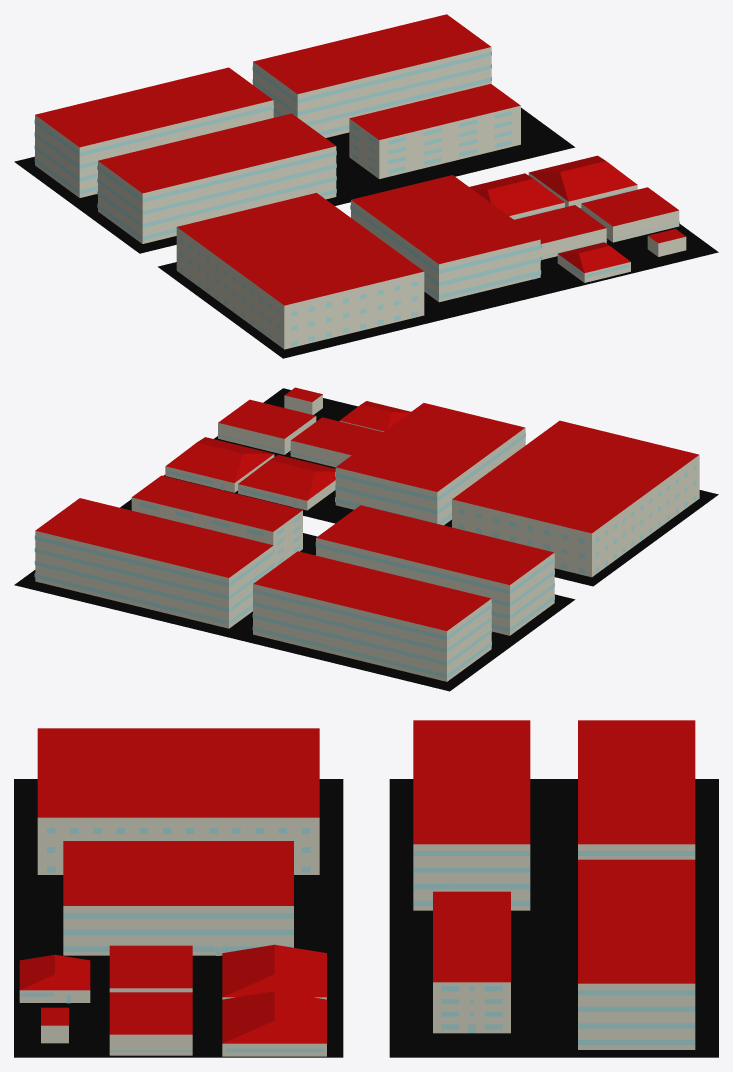
The picture shows the model from 3 angles, top to bottom: view 1: azimuth 30°, elevation 25°; view 2: azimuth 150°, elevation 25°; view 3: azimuth 270°, elevation 25°; orthographic projection. The views are drawn at different scales.
Parts seen in each view (by area): view 1: Roofs, Walls, Ground, Windows; view 2: Roofs, Walls, Windows, Ground; view 3: Roofs, Ground, Walls, Windows.
Part boxes in pixels (bbox=[...]): Roofs: bbox=[35, 14, 685, 305]; Walls: bbox=[35, 47, 686, 349]; Ground: bbox=[14, 107, 718, 358]; Windows: bbox=[34, 52, 679, 345]; Roofs: bbox=[35, 387, 698, 630]; Walls: bbox=[35, 394, 699, 681]; Windows: bbox=[34, 433, 696, 677]; Ground: bbox=[14, 388, 718, 691]; Roofs: bbox=[19, 720, 695, 1043]; Ground: bbox=[14, 779, 718, 1057]; Walls: bbox=[19, 817, 695, 1056]; Windows: bbox=[21, 828, 695, 1052].
Bounding box in the file's own units: 142 × 15.85 × 152.
